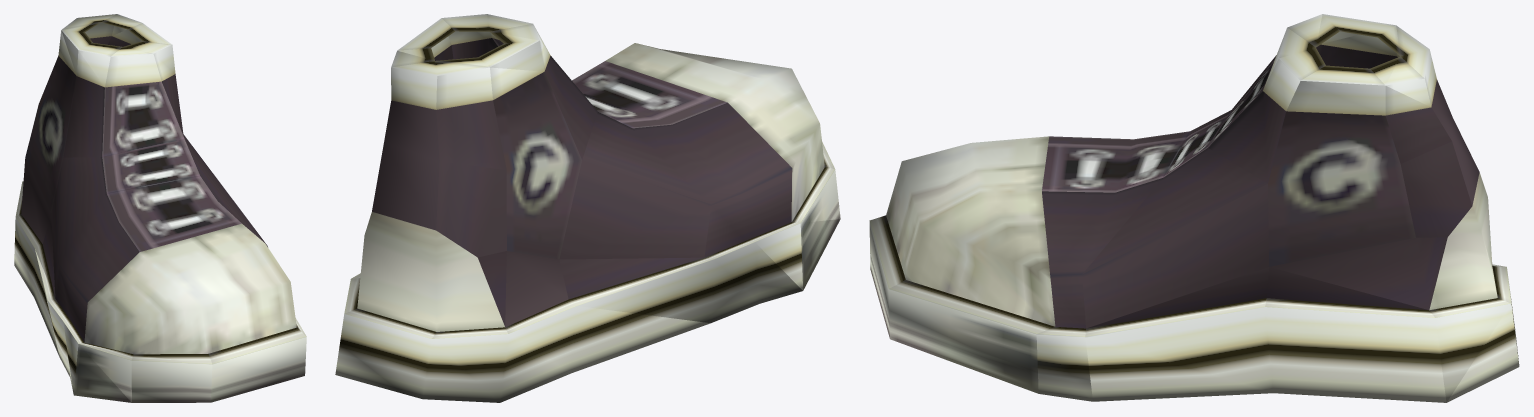
Rendered from crash_pie_derecho.obj.
3 renders of one model, left to right at view 1: azimuth 30°, elevation 25°; view 2: azimuth 150°, elevation 25°; view 3: azimuth 270°, elevation 25°, orthographic. The views are drawn at different scales.
Parts seen in each view (by area): view 1: crash_pie_derecho; view 2: crash_pie_derecho; view 3: crash_pie_derecho.
Part boxes in pixels (x1,y1,x2,y2): crash_pie_derecho: [14, 14, 306, 402]; crash_pie_derecho: [335, 14, 840, 402]; crash_pie_derecho: [869, 14, 1519, 402].
Size of the model in its own units: 2.08 by 2.28 by 4.18.
1 material, 1 textured.
